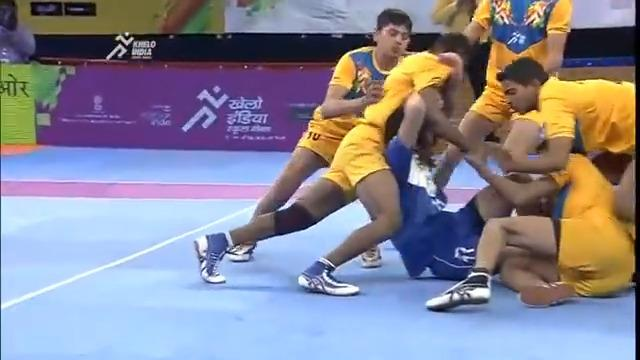Player: (200, 30, 472, 296), (424, 152, 635, 311), (430, 0, 573, 209)
Raider: (376, 99, 550, 250)
referee: (286, 7, 421, 289)
